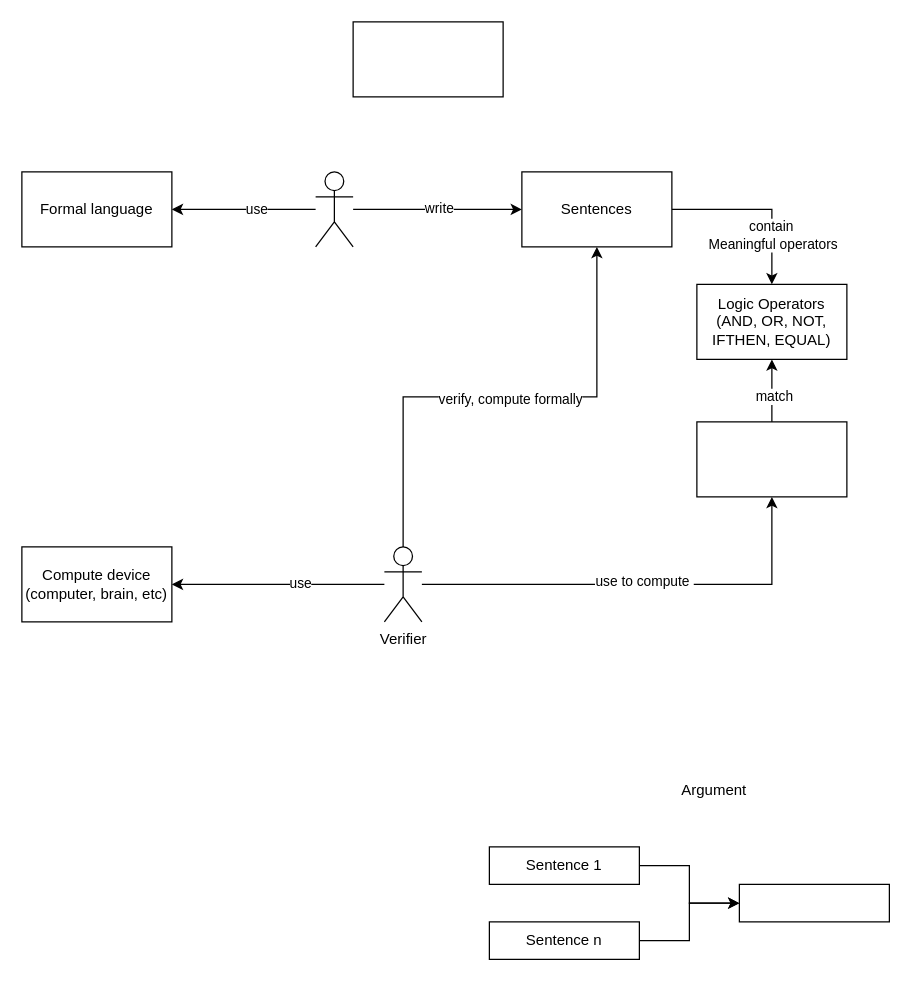
The diagram is 911 pixels wide and 981 high, and some of its shapes have lost their labels. Here are the shapes that lost their labels. From the top down, the box of each, then its label:
(352, 21, 503, 97): Propositional logic
(314, 171, 353, 247): Writer
(696, 421, 847, 497): Truth tables for logic operators
(738, 883, 889, 922): Conclusion
